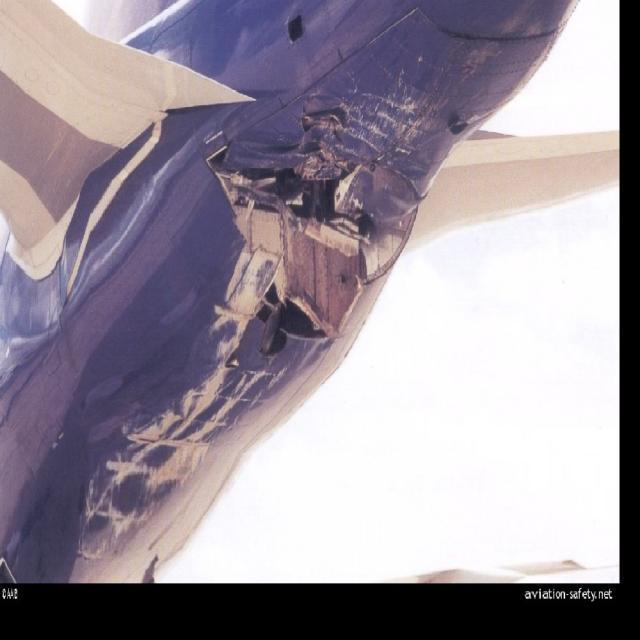crack: (206, 139, 379, 361), (299, 102, 350, 143)
